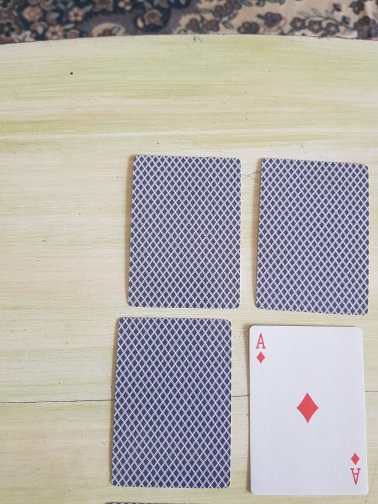ace: (247, 324, 370, 497)
